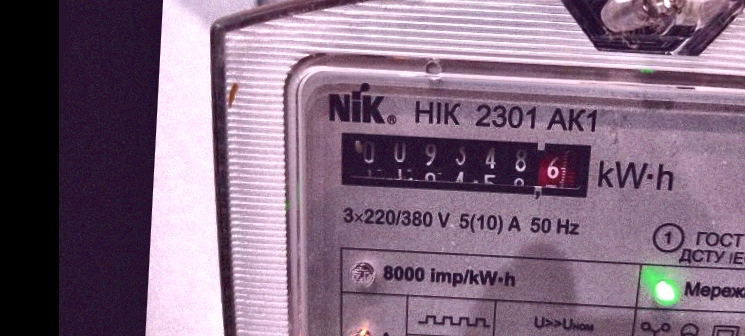0: (362, 137, 376, 164), (392, 139, 408, 162)
3: (453, 141, 468, 168)
4: (482, 142, 498, 170)
6: (544, 153, 562, 181)
8: (512, 145, 529, 174)
9: (422, 140, 438, 167)
screen: (329, 124, 601, 207)
